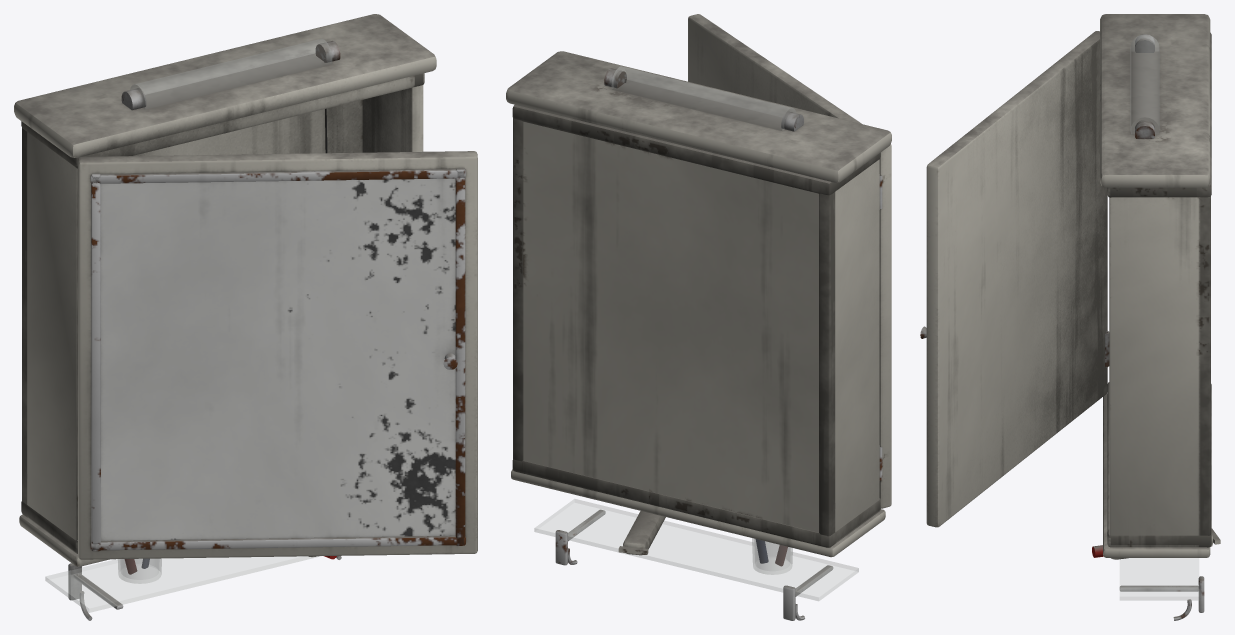
File: SM_MirrorCabinet.fbx
3 renders of one model, left to right at view 1: azimuth 30°, elevation 25°; view 2: azimuth 150°, elevation 25°; view 3: azimuth 270°, elevation 25°, orthographic. The views are drawn at different scales.
Visible parts, largest first — view 1: SM_MirrorCabinet; view 2: SM_MirrorCabinet; view 3: SM_MirrorCabinet.
Boxes of the visible parts, bbox=[...] form: SM_MirrorCabinet: bbox=[14, 14, 477, 620]; SM_MirrorCabinet: bbox=[506, 14, 891, 620]; SM_MirrorCabinet: bbox=[920, 14, 1220, 620].
Size of the model in its own units: 0.53 by 0.745 by 0.4139.
Materials: 2 (1 with a texture image).
